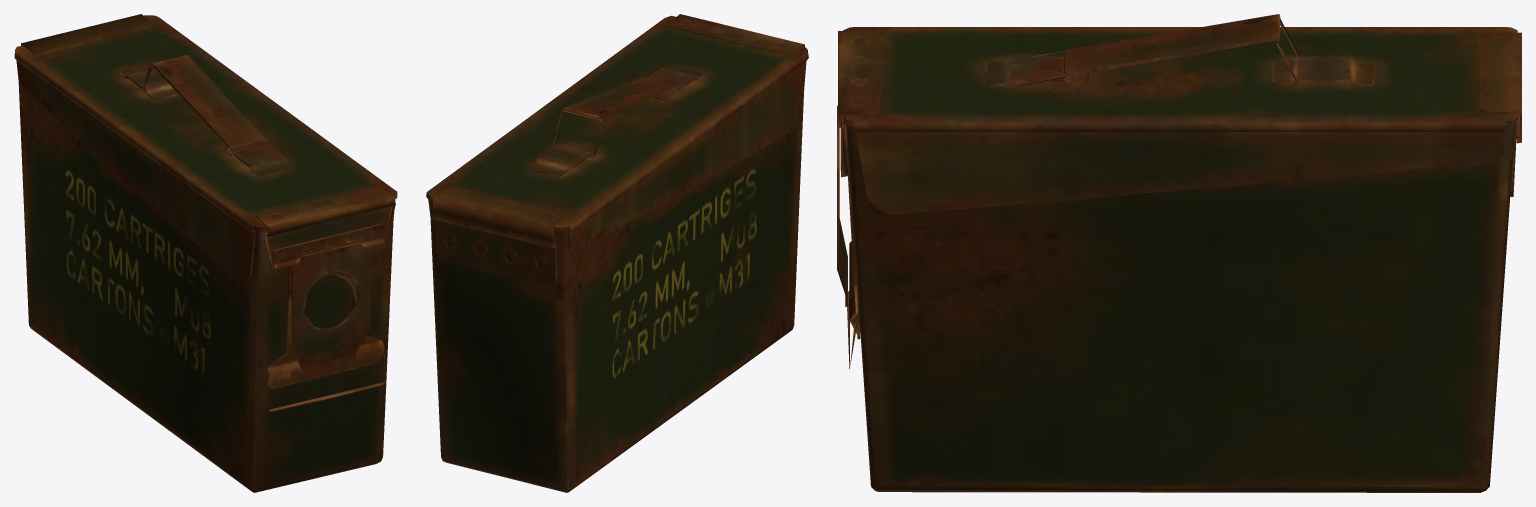
File: ammo_box.glb
3 views of the same model, side by side, from view 1: azimuth 30°, elevation 25°; view 2: azimuth 150°, elevation 25°; view 3: azimuth 270°, elevation 25° (orthographic). The views are drawn at different scales.
Visible parts, largest first — view 1: ammo_box_handle_ring_b; view 2: ammo_box_handle_ring_b; view 3: ammo_box_handle_ring_b.
Boxes of the visible parts, left/top/right/bottom form: ammo_box_handle_ring_b: left=14, top=14, right=397, bottom=492; ammo_box_handle_ring_b: left=426, top=14, right=808, bottom=492; ammo_box_handle_ring_b: left=837, top=14, right=1521, bottom=492.
Bounding box in the file's own units: 0.0864 × 0.1773 × 0.2576.
Materials: 1 (1 with a texture image).
